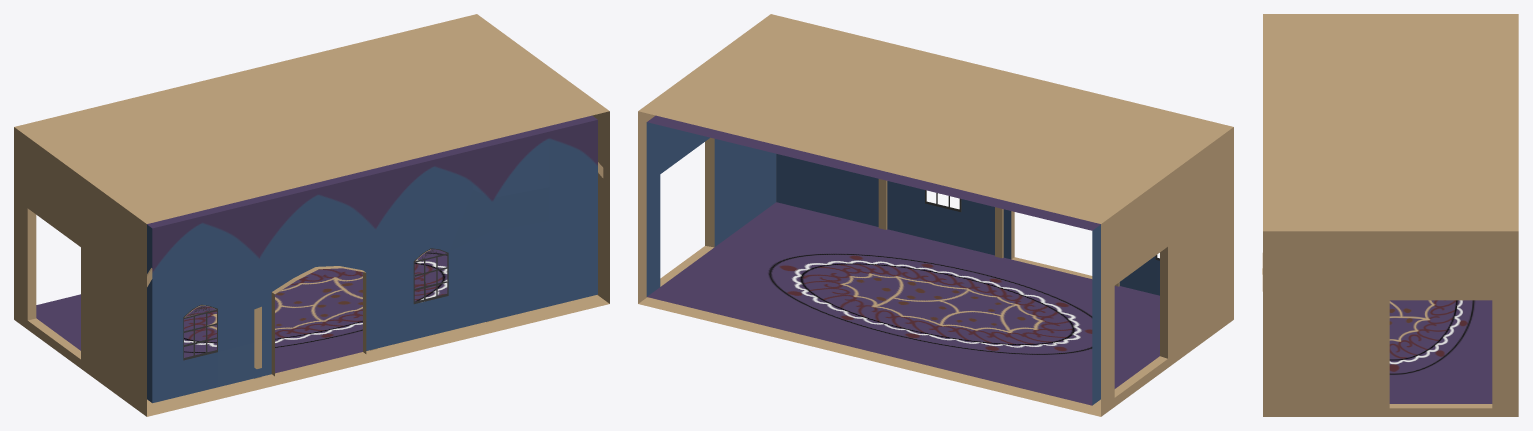
Rendered from lobbyFBX.fbx.
3 renders of one model, left to right at view 1: azimuth 30°, elevation 25°; view 2: azimuth 150°, elevation 25°; view 3: azimuth 270°, elevation 25°, orthographic. The views are drawn at different scales.
Parts seen in each view (by area): view 1: LobbyBackWall, LobbyRoofTOP, LobbyRWallBack, LobbyFloor, Lobbybootom, LobbyRoof, LobbyBackWall.026, LobbyBackWall.028, LobbyLwallBack, LobbyBackWall.009, LobbyRwall_Frame_BACK, LobbyRwall (+2 smaller); view 2: LobbyRoofTOP, LobbyFloor, LobbyRWallBack, LobbyBackWall, LobbyLwall, Lobbybootom, LobbyRoof, LobbyBackWall.026, LobbyLwallBack, LobbyRwall, LobbyLwall_Frame_Facing, LobbyRwall_Frame_Facing (+1 smaller); view 3: LobbyRoofTOP, LobbyLwallBack, LobbyFloor, LobbyBackWall.026, LobbyBackWall.027, LobbyLwall_Frame_Floor.
Part boxes in pixels (x1=…): LobbyBackWall: x1=147, y1=120, x2=603, y2=403; LobbyRoofTOP: x1=14, y1=14, x2=606, y2=221; LobbyRWallBack: x1=14, y1=127, x2=143, y2=414; LobbyFloor: x1=36, y1=249, x2=447, y2=373; Lobbybootom: x1=147, y1=295, x2=605, y2=413; LobbyRoof: x1=147, y1=115, x2=597, y2=228; LobbyBackWall.026: x1=144, y1=109, x2=609, y2=223; LobbyBackWall.028: x1=147, y1=301, x2=609, y2=416; LobbyLwallBack: x1=592, y1=112, x2=606, y2=301; LobbyBackWall.009: x1=183, y1=248, x2=448, y2=360; LobbyRwall_Frame_BACK: x1=27, y1=208, x2=36, y2=320; LobbyRwall: x1=147, y1=224, x2=152, y2=402; LobbyRoofTOP: x1=638, y1=16, x2=1229, y2=223; LobbyFloor: x1=647, y1=202, x2=1159, y2=405; LobbyRWallBack: x1=1101, y1=129, x2=1230, y2=416; LobbyBackWall: x1=776, y1=154, x2=1159, y2=295; LobbyLwall: x1=646, y1=122, x2=776, y2=296; Lobbybootom: x1=638, y1=297, x2=1100, y2=416; LobbyRoof: x1=647, y1=115, x2=1100, y2=230; LobbyBackWall.026: x1=768, y1=14, x2=1233, y2=129; LobbyLwallBack: x1=638, y1=111, x2=655, y2=303; LobbyRwall: x1=1092, y1=224, x2=1100, y2=405; LobbyLwall_Frame_Facing: x1=705, y1=137, x2=714, y2=247; LobbyRwall_Frame_Facing: x1=1160, y1=247, x2=1167, y2=358; LobbyRoofTOP: x1=1269, y1=14, x2=1518, y2=231; LobbyLwallBack: x1=1269, y1=231, x2=1518, y2=416; LobbyFloor: x1=1389, y1=300, x2=1492, y2=403; LobbyBackWall.026: x1=1263, y1=14, x2=1268, y2=231; LobbyBackWall.027: x1=1263, y1=231, x2=1268, y2=416; LobbyLwall_Frame_Floor: x1=1389, y1=404, x2=1492, y2=408.
Size of the model in its own units: 997 by 397 by 496.
